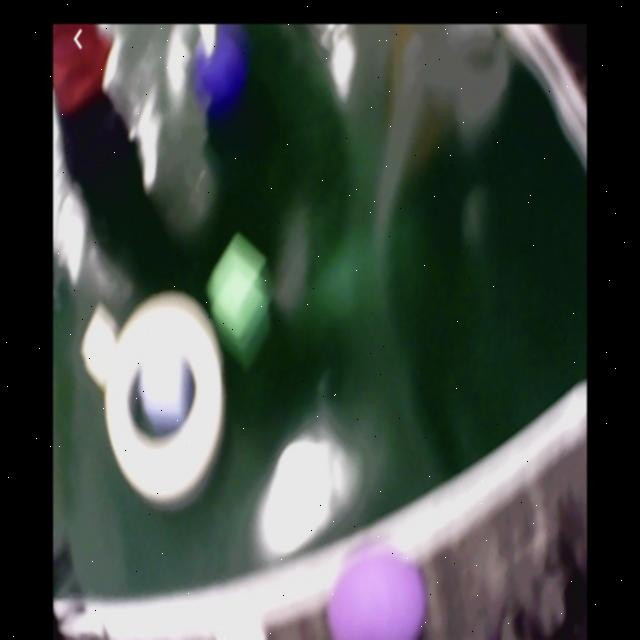ball: (327, 550, 423, 640), (192, 36, 246, 104)
